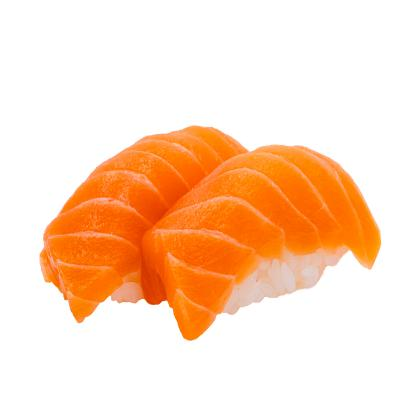sake: (136, 134, 386, 360)
